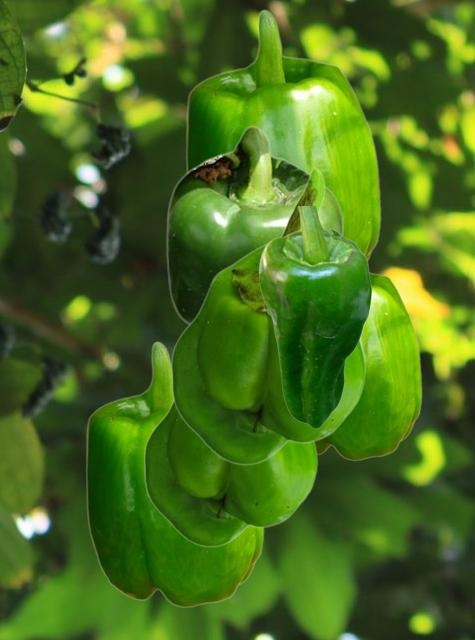bell_pepper: (170, 166, 365, 464), (185, 9, 380, 260), (85, 341, 263, 607), (165, 125, 343, 324), (143, 400, 317, 546), (258, 206, 371, 428), (316, 271, 421, 460)
